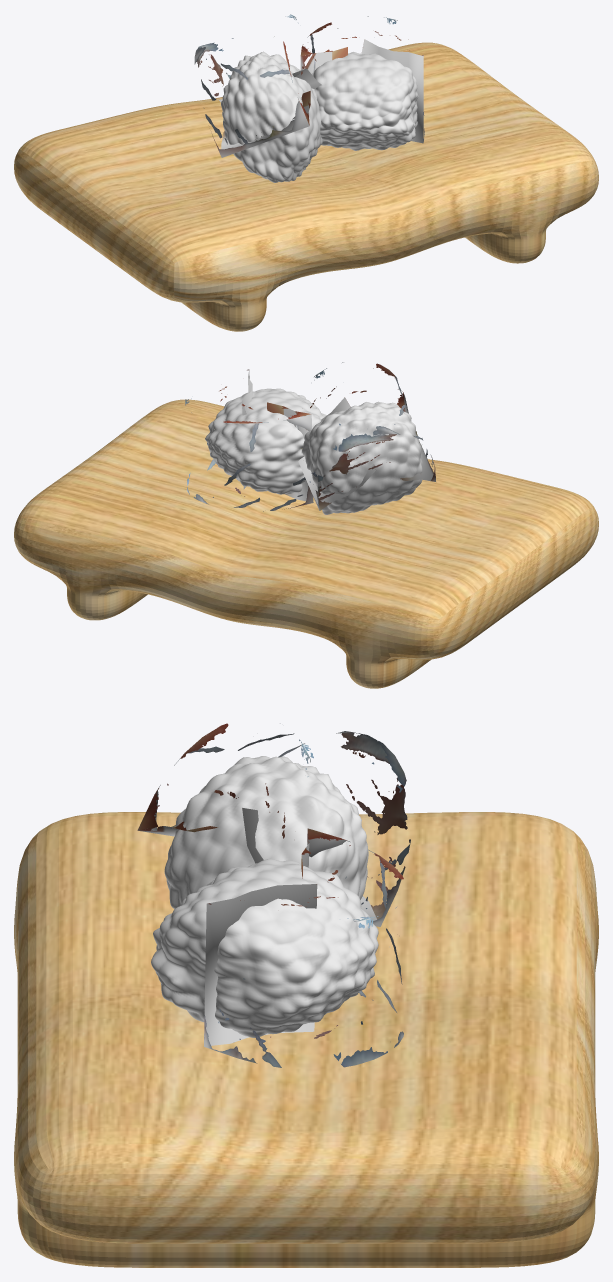
File: Saba_Sushi.fbx
The picture shows the model from 3 angles, top to bottom: view 1: azimuth 30°, elevation 25°; view 2: azimuth 150°, elevation 25°; view 3: azimuth 270°, elevation 25°; orthographic projection. The views are drawn at different scales.
Parts seen in each view (by area): view 1: Cube.001, Plane.021, Plane.017, Cylinder.001, Cylinder; view 2: Cube.001, Plane.021, Plane.017, Cylinder.001, Cylinder; view 3: Cube.001, Plane.017, Plane.021, Cylinder, Cylinder.001.
Part boxes in pixels (bbox=[...]): Cube.001: bbox=[14, 42, 598, 331]; Plane.021: bbox=[221, 51, 322, 182]; Plane.017: bbox=[311, 52, 418, 150]; Cylinder.001: bbox=[194, 14, 321, 157]; Cylinder: bbox=[300, 16, 424, 143]; Cube.001: bbox=[14, 399, 598, 688]; Plane.021: bbox=[301, 401, 422, 514]; Plane.017: bbox=[205, 388, 326, 494]; Cylinder.001: bbox=[298, 362, 435, 510]; Cylinder: bbox=[185, 369, 313, 511]; Cube.001: bbox=[14, 812, 598, 1267]; Plane.017: bbox=[151, 859, 378, 1037]; Plane.021: bbox=[164, 756, 368, 908]; Cylinder: bbox=[204, 828, 403, 1067]; Cylinder.001: bbox=[137, 723, 410, 926].
Size of the model in its own units: 278 by 145 by 191.
2 materials, 2 textured.
